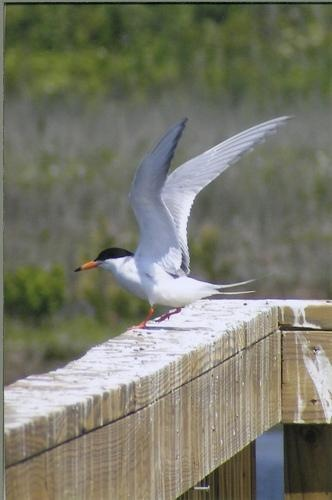bird: (72, 112, 295, 333)
